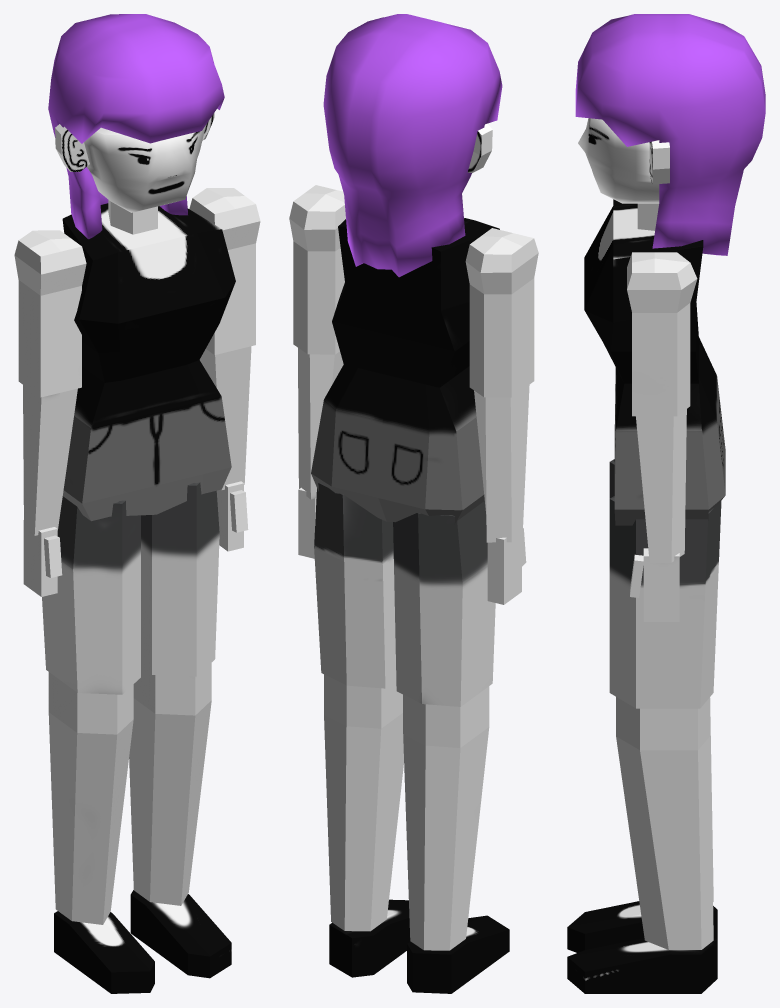
Rendered from human-g-handdrawn.glb.
The picture shows the model from 3 angles, left to right: view 1: azimuth 30°, elevation 25°; view 2: azimuth 150°, elevation 25°; view 3: azimuth 270°, elevation 25°; orthographic projection.
Parts seen in each view (by area): view 1: body, hair, lowerleg.r, upperleg.r, lowerleg.l, upperleg.l, upperarm.r, head, lowerarm.r, upperarm.l, foot.l, foot.r (+7 smaller); view 2: body, hair, lowerleg.r, upperleg.r, lowerleg.l, upperleg.l, upperarm.r, upperarm.l, lowerarm.r, foot.r, foot.l, lowerarm.l (+3 smaller); view 3: hair, lowerleg.l, body, upperleg.l, upperarm.l, foot.l, lowerarm.l, head, foot.r, hand.l, ear.l, neck (+1 smaller).
Part boxes in pixels (left/top/right/bottom): body: left=62, top=203, right=235, bottom=521; hair: left=48, top=14, right=224, bottom=239; lowerleg.r: left=48, top=672, right=133, bottom=924; upperleg.r: left=42, top=496, right=140, bottom=694; lowerleg.l: left=129, top=663, right=211, bottom=905; upperleg.l: left=141, top=482, right=219, bottom=676; upperarm.r: left=14, top=230, right=86, bottom=397; head: left=84, top=125, right=205, bottom=212; lowerarm.r: left=23, top=385, right=77, bottom=535; upperarm.l: left=189, top=188, right=260, bottom=354; foot.l: left=130, top=890, right=231, bottom=978; foot.r: left=54, top=911, right=154, bottom=993; body: left=311, top=218, right=499, bottom=524; hair: left=323, top=14, right=502, bottom=277; lowerleg.r: left=403, top=686, right=489, bottom=950; upperleg.r: left=393, top=501, right=495, bottom=706; lowerleg.l: left=324, top=674, right=403, bottom=931; upperleg.l: left=314, top=483, right=396, bottom=688; upperarm.r: left=465, top=228, right=538, bottom=397; upperarm.l: left=289, top=185, right=345, bottom=354; lowerarm.r: left=474, top=385, right=529, bottom=542; foot.r: left=407, top=915, right=509, bottom=993; foot.l: left=329, top=899, right=410, bottom=977; lowerarm.l: left=298, top=348, right=343, bottom=499; hair: left=575, top=14, right=765, bottom=255; lowerleg.l: left=616, top=697, right=713, bottom=949; body: left=584, top=199, right=725, bottom=525; upperleg.l: left=609, top=496, right=721, bottom=708; upperarm.l: left=627, top=252, right=697, bottom=416; foot.l: left=567, top=938, right=717, bottom=993; lowerarm.l: left=636, top=409, right=686, bottom=562; head: left=578, top=118, right=659, bottom=203; foot.r: left=567, top=901, right=717, bottom=952; hand.l: left=643, top=548, right=679, bottom=621; ear.l: left=649, top=140, right=669, bottom=184; neck: left=637, top=203, right=658, bottom=230.
Bounding box in the file's own units: 2.51 × 10.08 × 1.93.
4 materials, 4 textured.
